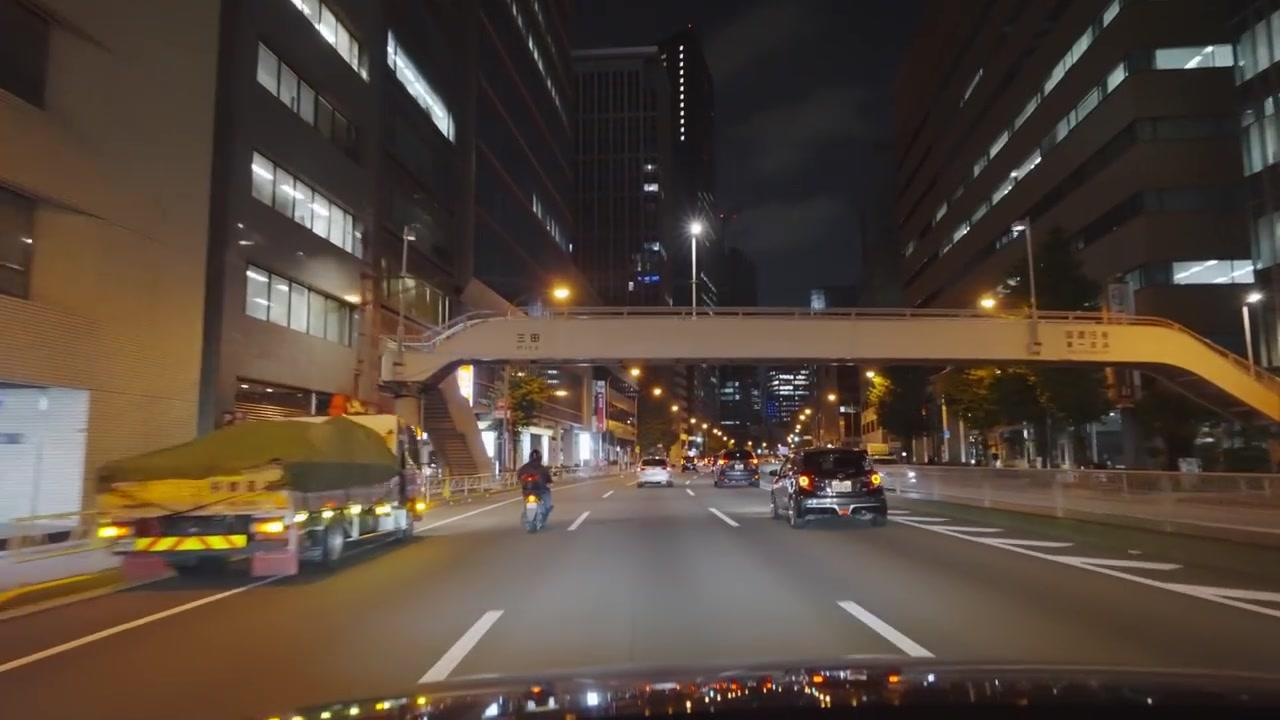car: (771, 446, 888, 528), (713, 456, 758, 487), (637, 461, 671, 488), (758, 458, 781, 484)
motorcycle: (519, 484, 553, 533)
person: (518, 448, 554, 523)
traffic light: (1103, 367, 1119, 405)
truck: (93, 411, 426, 579), (1, 384, 92, 546)
